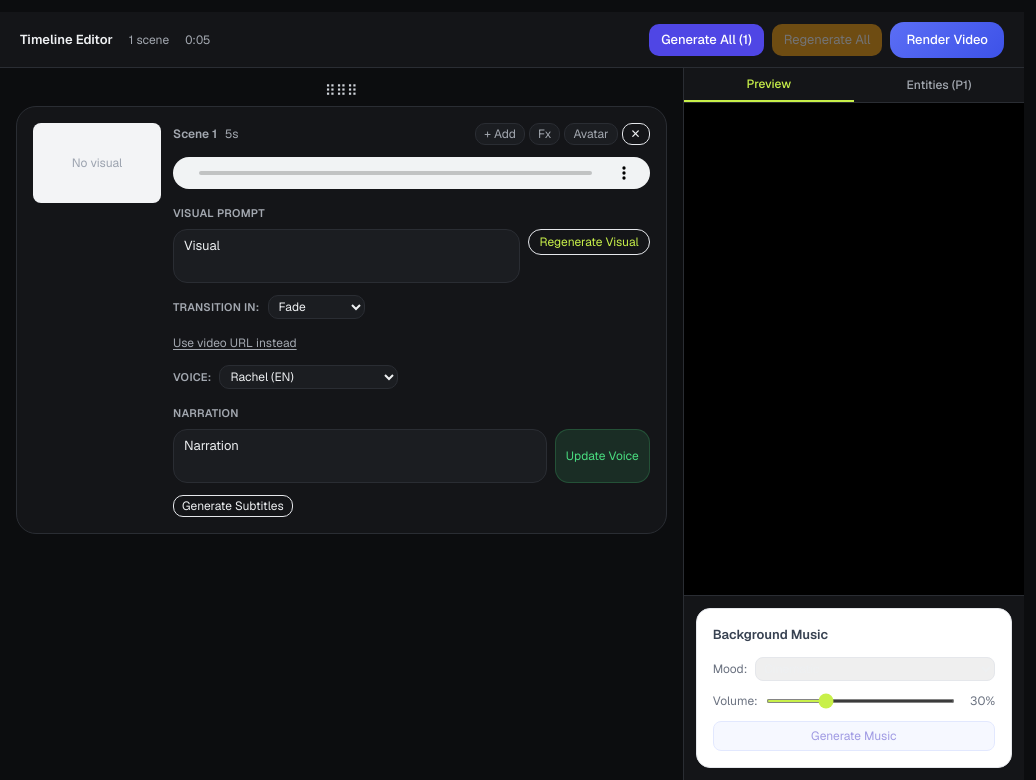
Scenario: editing narration shows unsaved badge on scene card (CT-18-01)
This screenshot has width=1036, height=780.
Replace the text in the text box with test id "narration-input" with "Modified narration" at (360, 456), box [173,429,547,483]
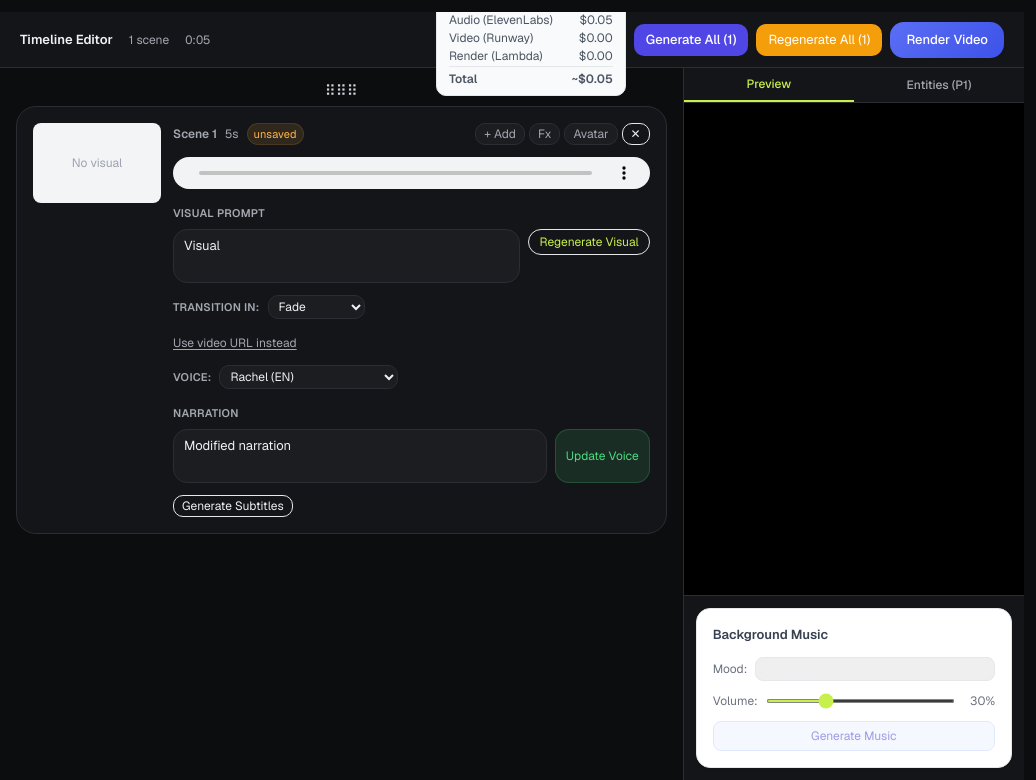
Expected: the text "unsaved" is shown, [246,123,304,145]
